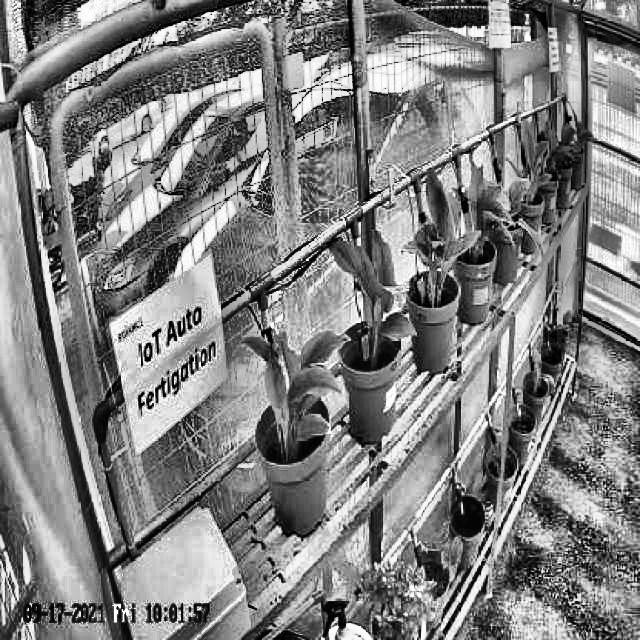plants: (240, 328, 348, 450), (326, 229, 419, 345), (404, 163, 482, 292), (465, 158, 513, 259), (523, 123, 551, 203), (570, 104, 595, 156)
